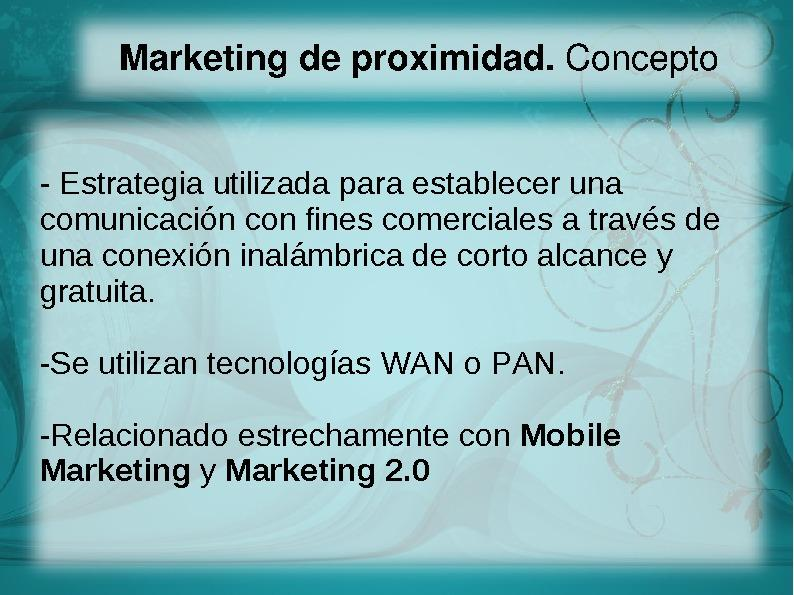paragraph: (23, 156, 747, 492)
title: (104, 25, 726, 96)
